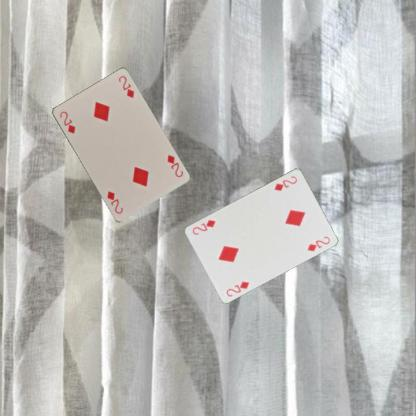2d: (223, 278, 250, 298), (164, 152, 184, 178), (57, 109, 76, 135), (272, 174, 298, 192)
